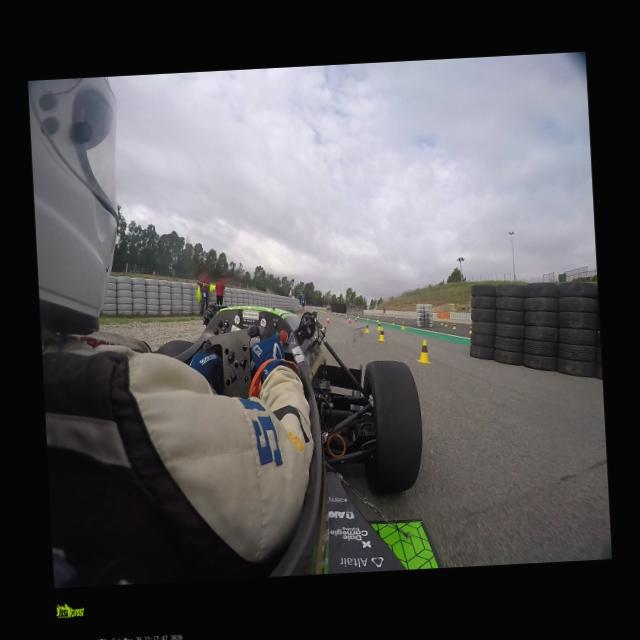orange_cone: (326, 317, 330, 324), (344, 314, 348, 320), (354, 317, 357, 323), (348, 318, 351, 324), (338, 313, 340, 317)
yellow_cone: (416, 339, 432, 364), (378, 328, 386, 342), (364, 323, 370, 333), (468, 326, 472, 334), (452, 322, 456, 330), (377, 322, 381, 330), (401, 323, 405, 330), (444, 321, 448, 328), (401, 320, 404, 328), (376, 317, 379, 323), (441, 320, 444, 326), (391, 320, 394, 325), (366, 315, 369, 320)
